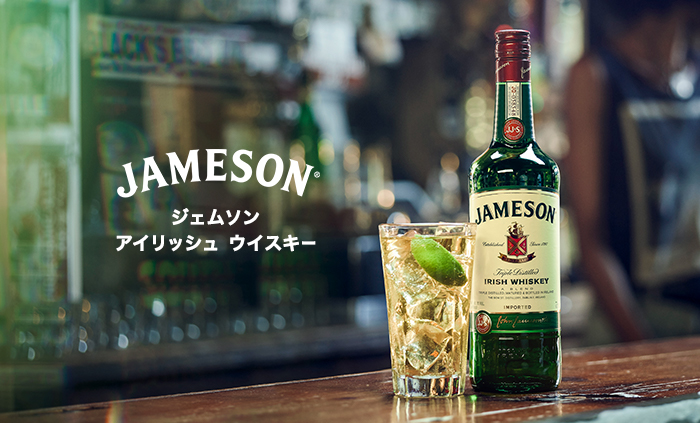Jameson: (467, 25, 566, 399)
